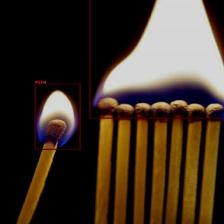fire: (88, 0, 224, 118), (34, 83, 80, 149)
